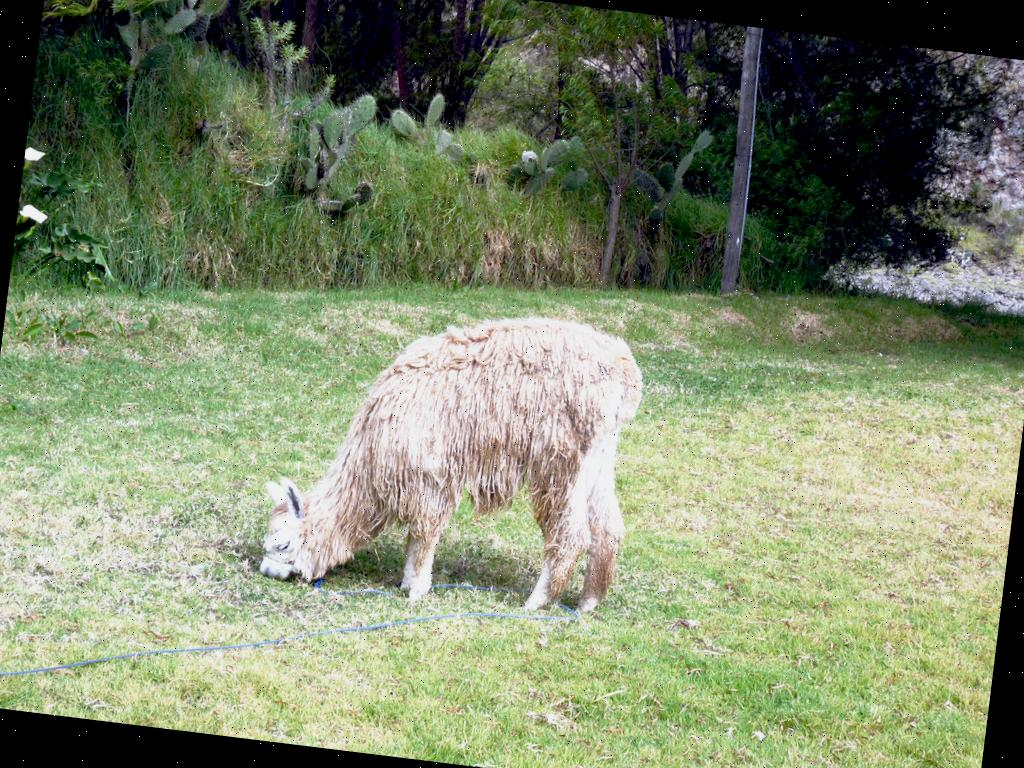Sheep: (256, 286, 638, 632)
